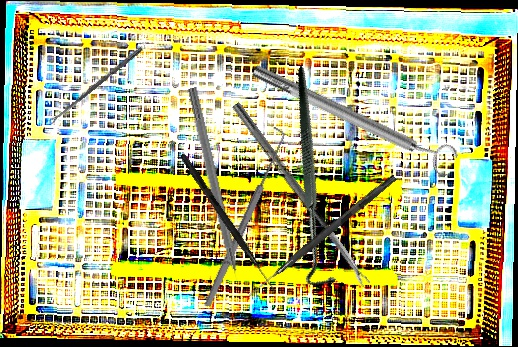Fixation Ring: (247, 53, 461, 181)
Hook Surgical: (220, 64, 410, 295), (247, 172, 397, 301), (195, 126, 292, 309), (177, 153, 280, 293), (184, 86, 246, 297)
Surgical Spoon: (230, 101, 371, 289), (47, 46, 144, 125)
